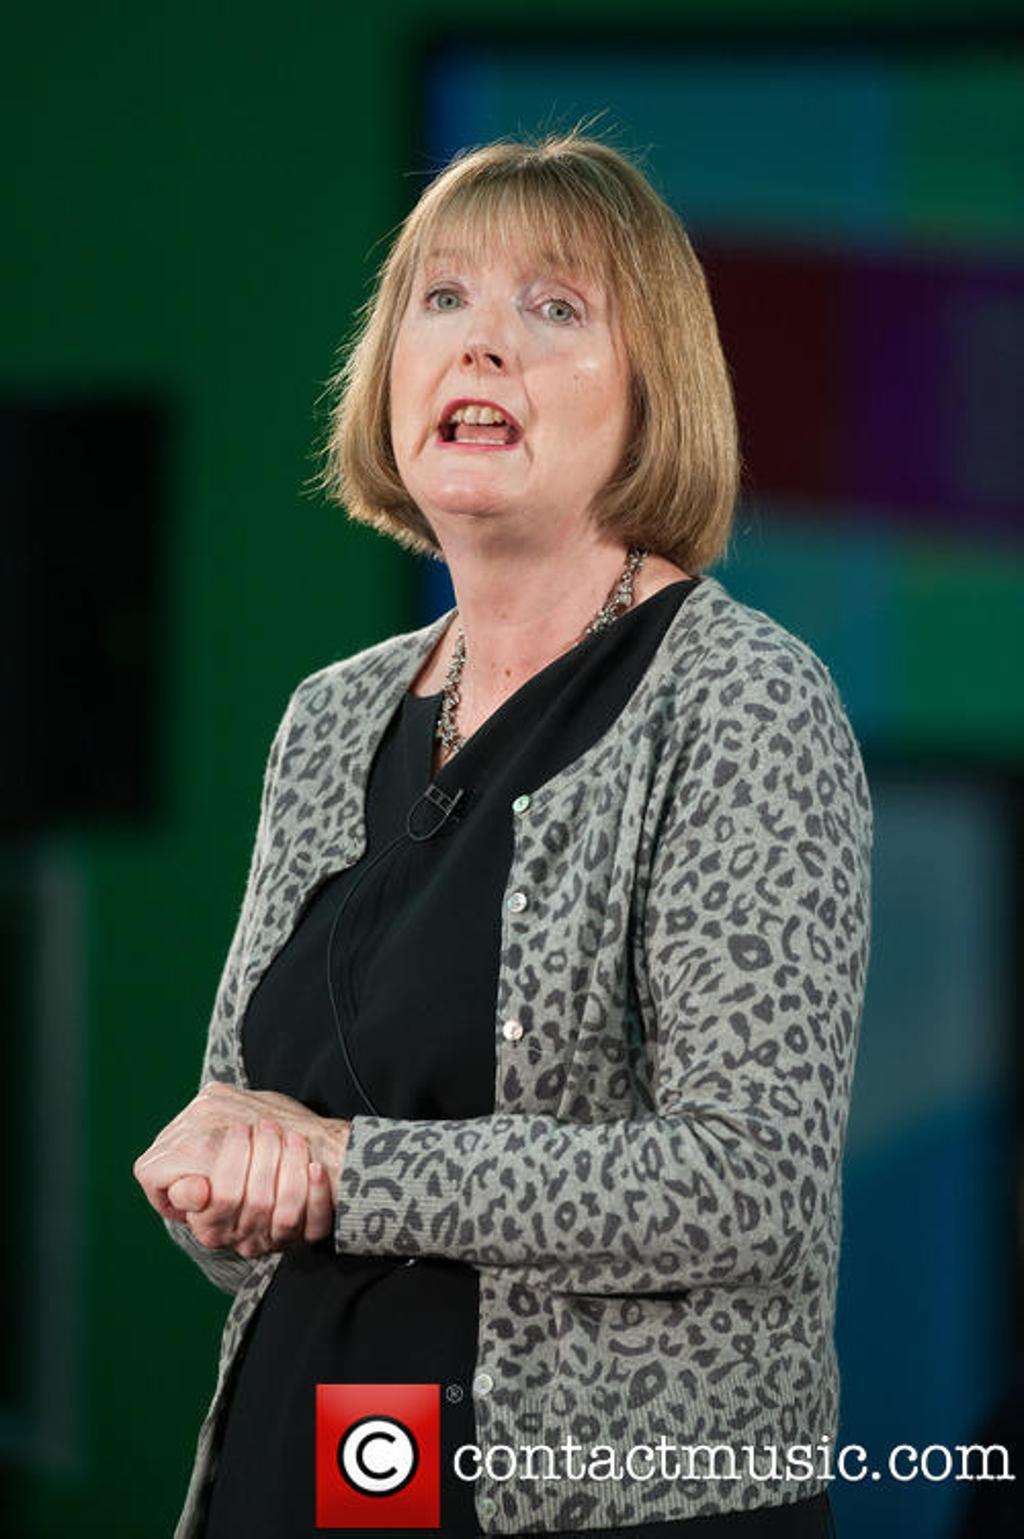face: (391, 190, 628, 508)
